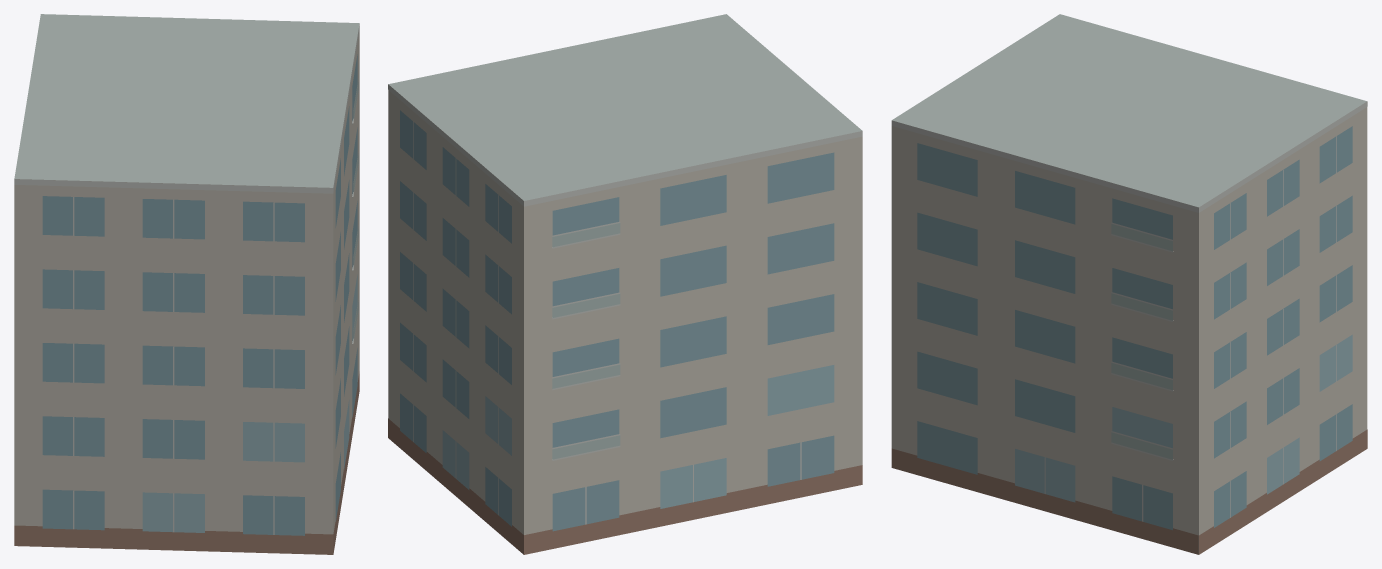
The model's file is survey-upis-33008821.glb.
The picture shows the model from 3 angles, left to right: view 1: azimuth 30°, elevation 25°; view 2: azimuth 150°, elevation 25°; view 3: azimuth 270°, elevation 25°; orthographic projection. The views are drawn at different scales.
Visible parts, largest first — view 1: survey-upis-33008821.tmp; view 2: survey-upis-33008821.tmp; view 3: survey-upis-33008821.tmp.
Boxes of the visible parts, <box> form: survey-upis-33008821.tmp: <box>14,14,359,554</box>; survey-upis-33008821.tmp: <box>388,14,862,554</box>; survey-upis-33008821.tmp: <box>891,14,1367,554</box>.
Bounding box in the file's own units: 18.22 × 15.25 × 18.94.
